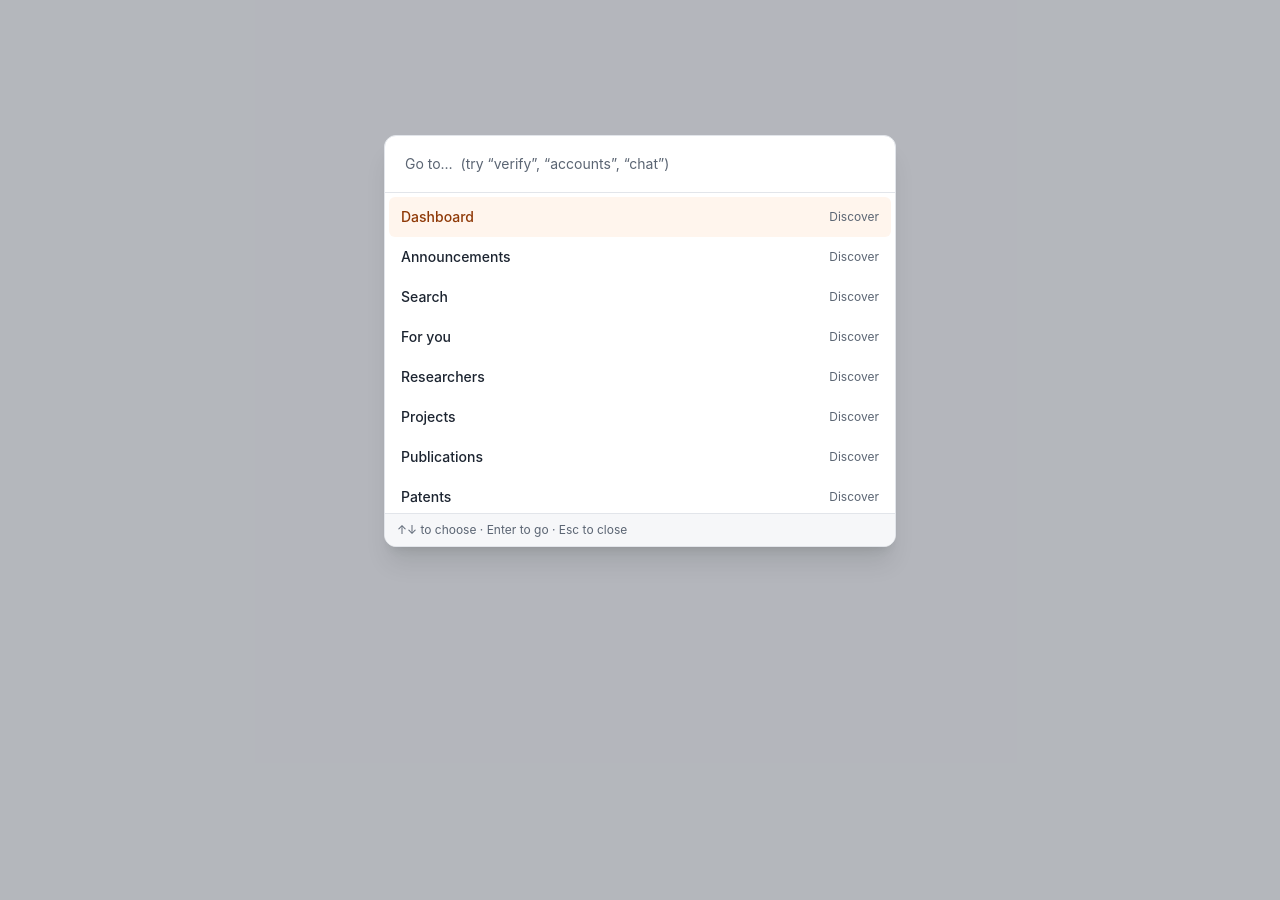
it: CommandPalette › says so when nothing matches, rather than showing an empty box
This screenshot has width=1280, height=900.
Type "zzzzz" into the field named "Go to page" at (640, 164), box [393,144,887,184]
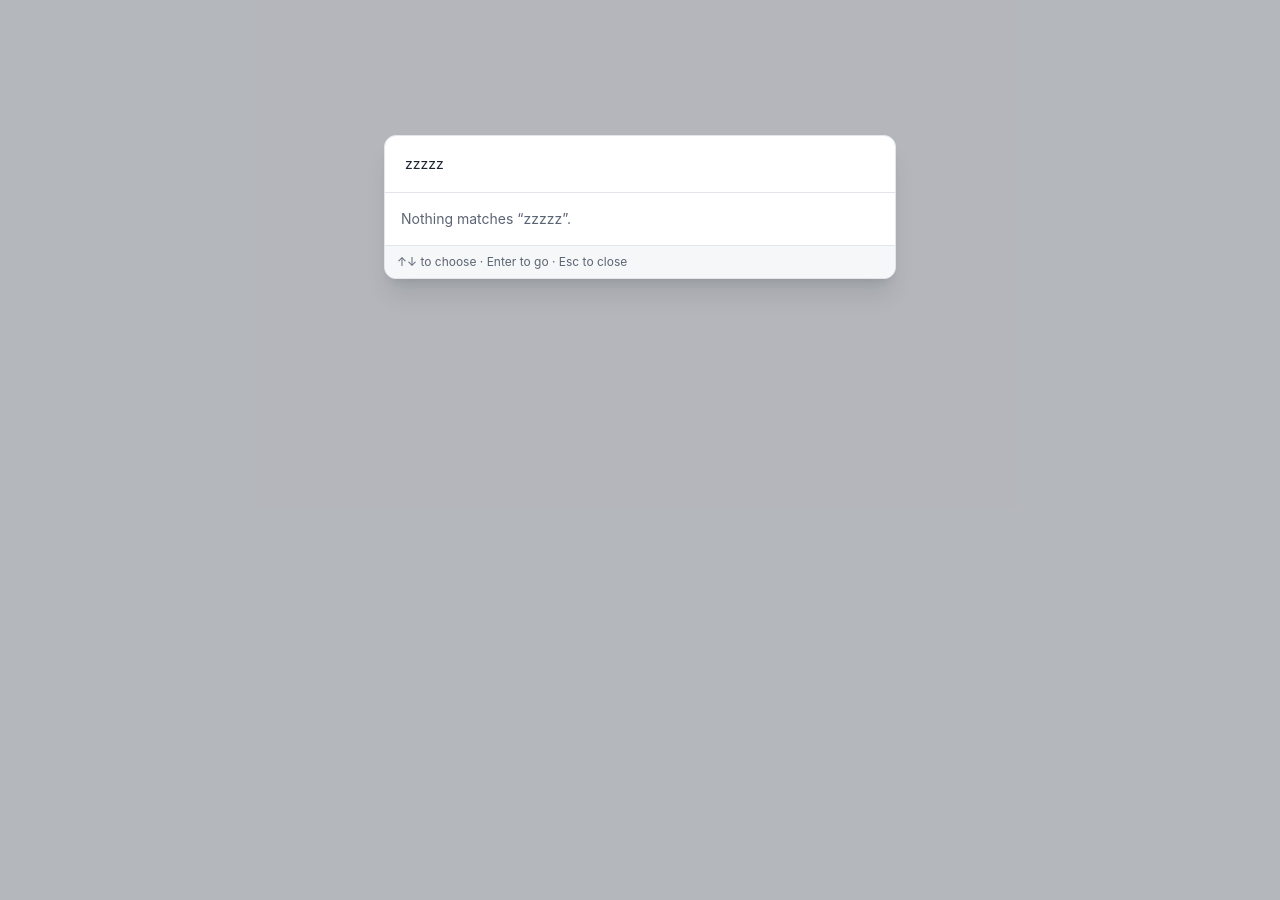
Now the text "Nothing matches “zzzzz”." is shown, box [401,210,571,227]
